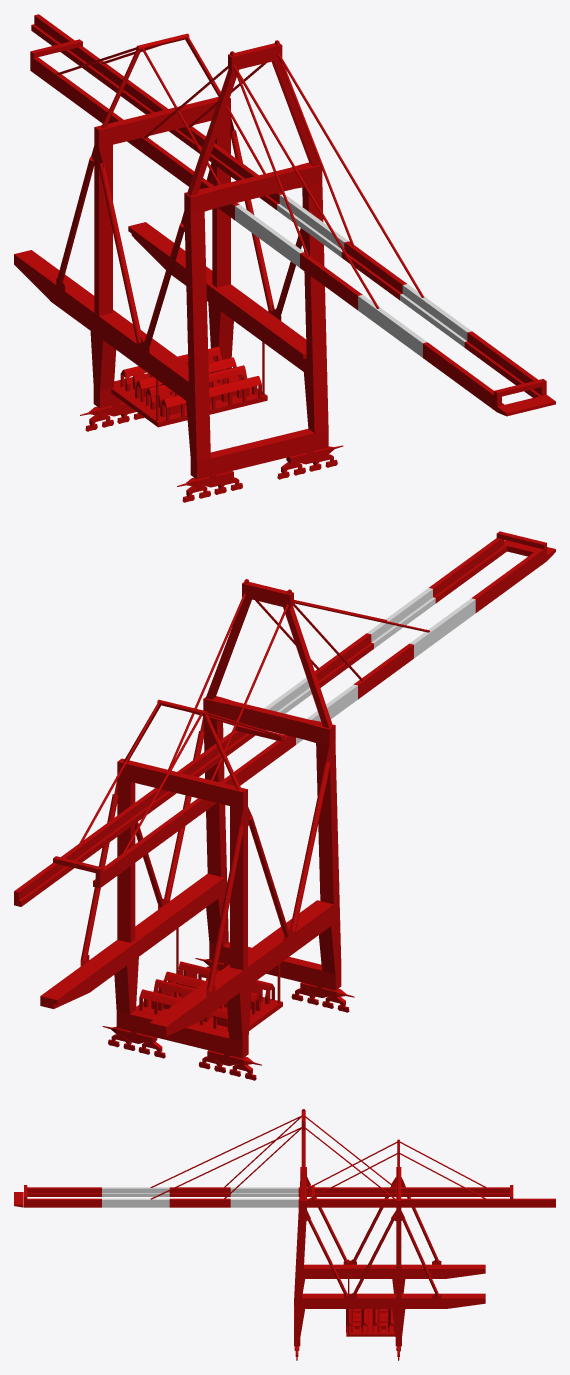
The model's file is STSGantry.FBX.
The picture shows the model from 3 angles, top to bottom: view 1: azimuth 30°, elevation 25°; view 2: azimuth 150°, elevation 25°; view 3: azimuth 270°, elevation 25°; orthographic projection. The views are drawn at different scales.
Visible parts, largest first — view 1: STS_Gantry; view 2: STS_Gantry; view 3: STS_Gantry.
Boxes of the visible parts, x1,y1,x2,y2 form: STS_Gantry: (14,14,555,502); STS_Gantry: (14,531,555,1080); STS_Gantry: (14,1109,555,1360).
Size of the model in its own units: 2962 by 7374 by 15972.
